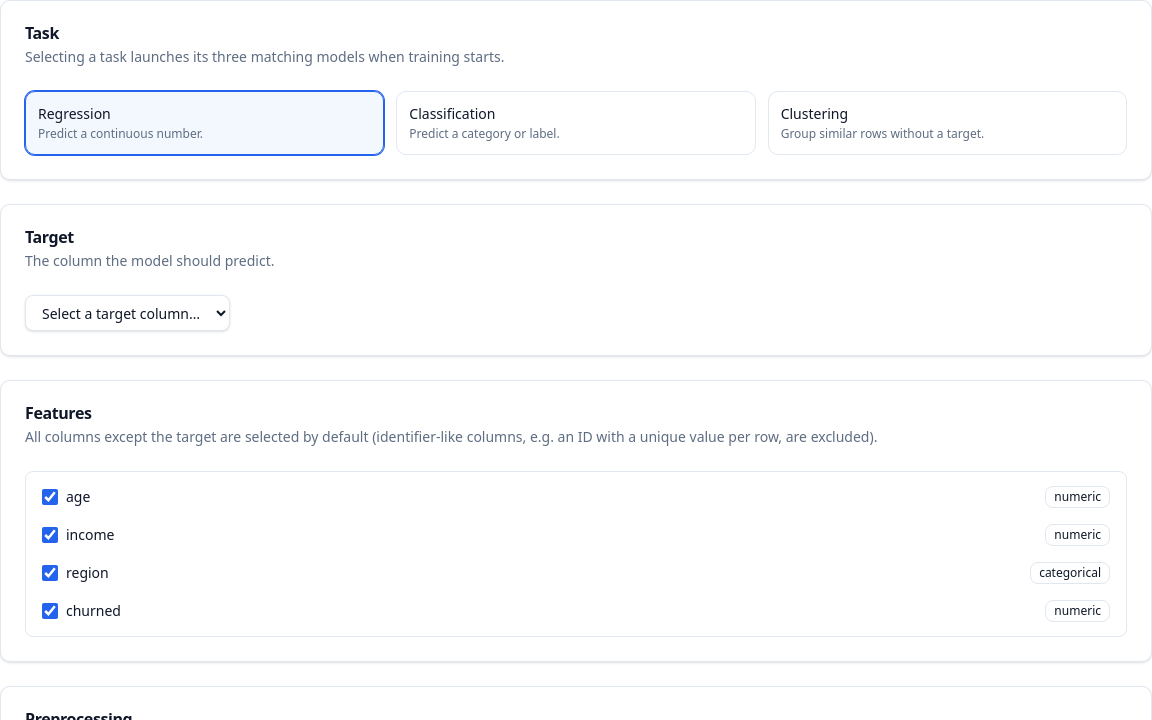
it: ConfigureStep › hides the target selector and disables categorical features for clustering
Click the radio button labelled "Clustering Group similar rows without a target.": x=947, y=123 [768,91,1127,155]
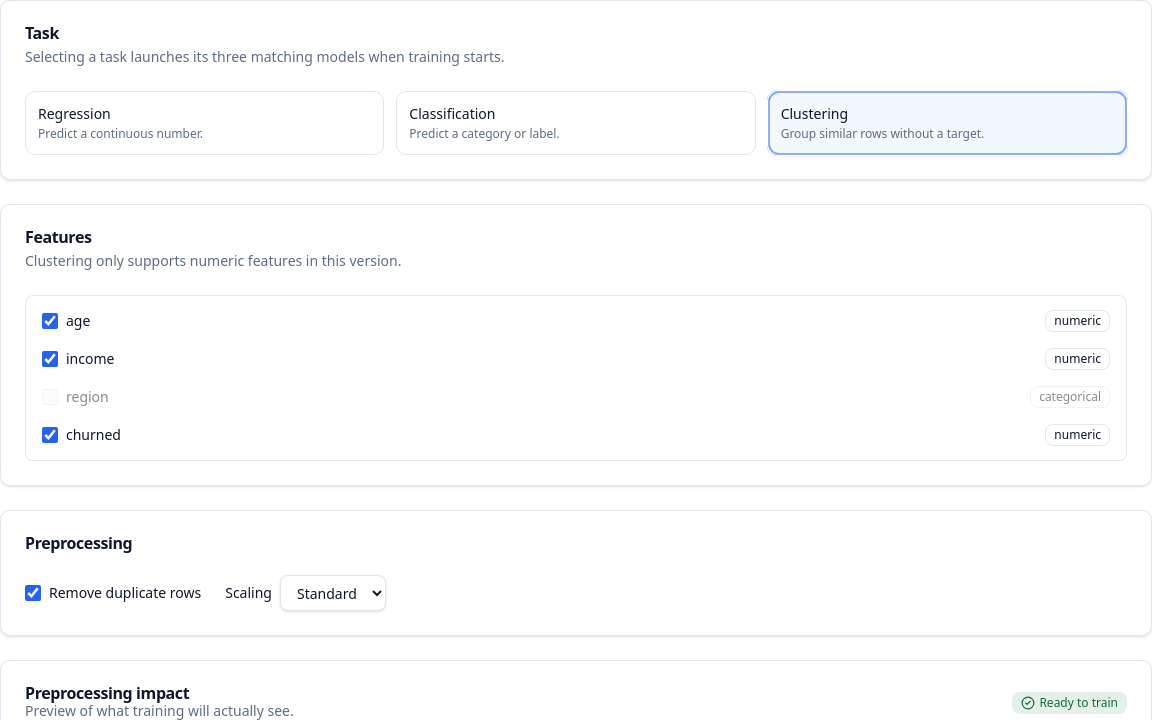
Expected: the field labelled "Target column" is not shown
Expected: the text "Ready to train" is shown, [1012,692,1127,714]
